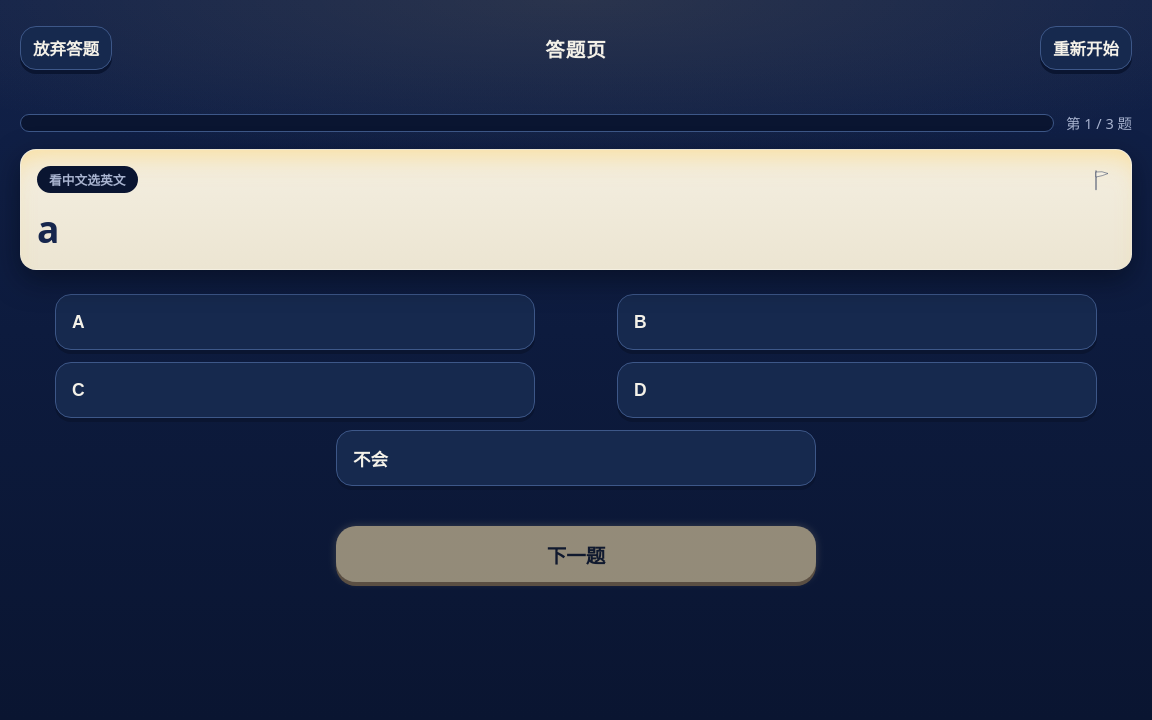
it: AC5-2 题干与选项渲染 › 三种题型 chip 文案映射
Expected: the text with class "star-chip" reads "看中文选英文", [49, 171, 126, 189]
Click the button with class "star-option" showing "A" at (78, 322), box [55, 294, 535, 350]
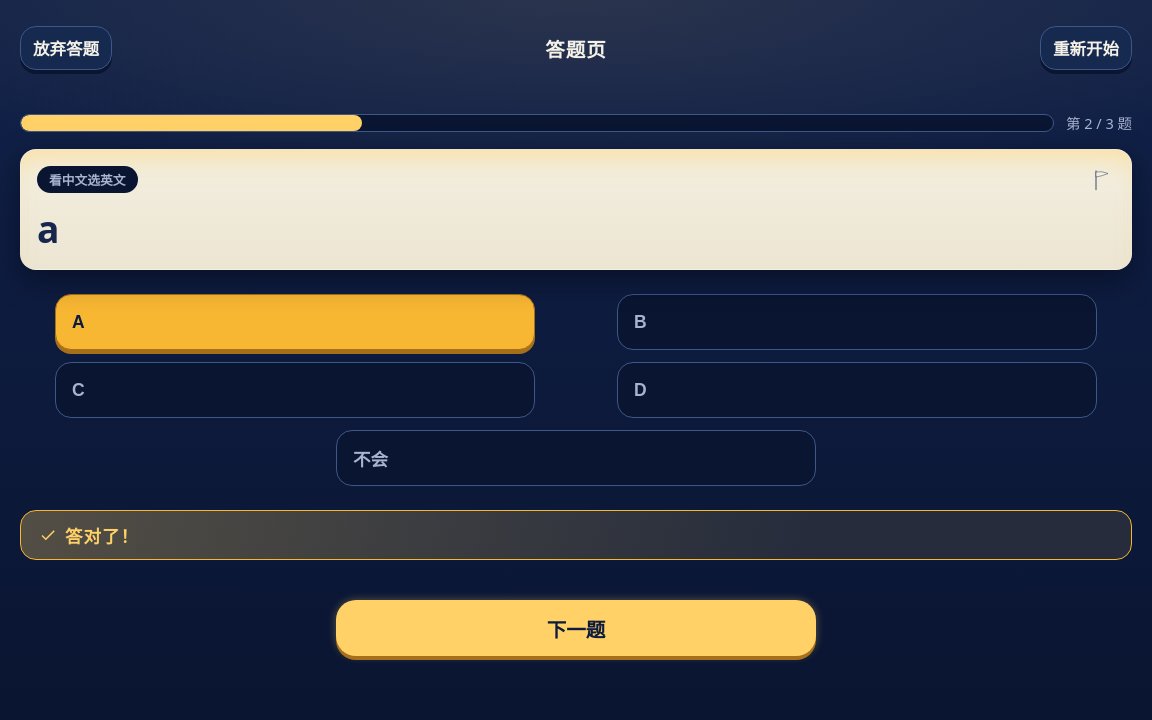
Click the button with class "next-btn" at (576, 628), box [336, 600, 816, 656]
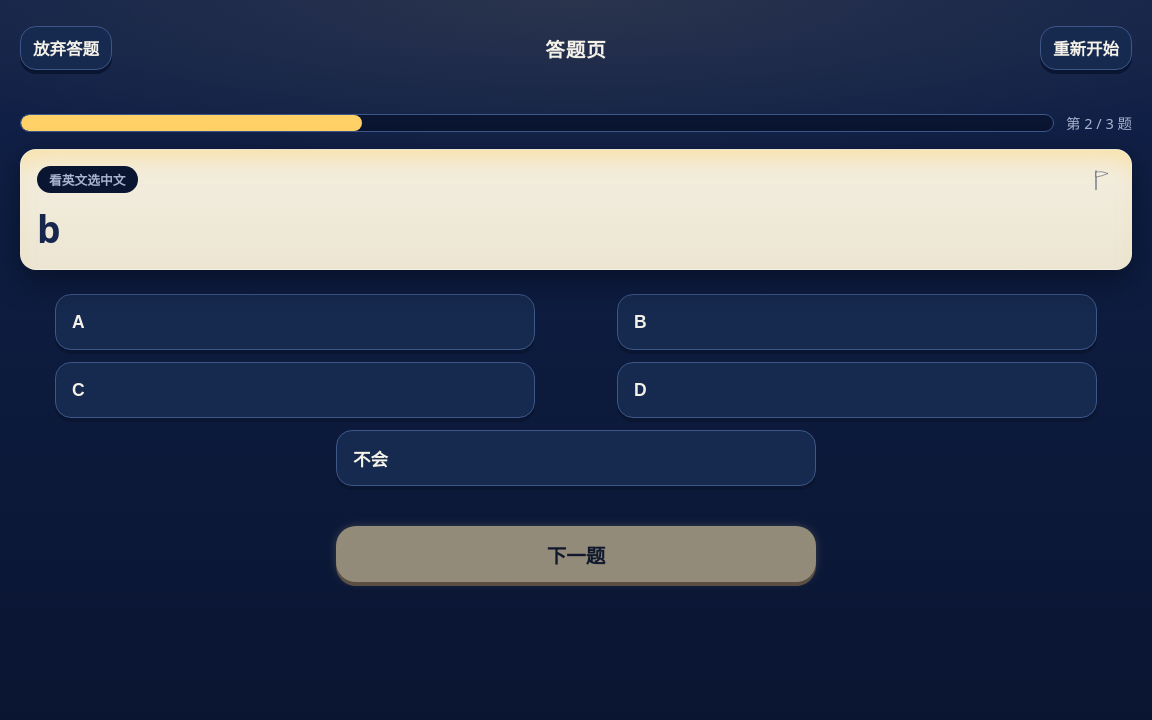
Now the text with class "star-chip" reads "看英文选中文", box [49, 171, 126, 189]
Click the button with class "star-option" showing "A" at (78, 322), box [55, 294, 535, 350]
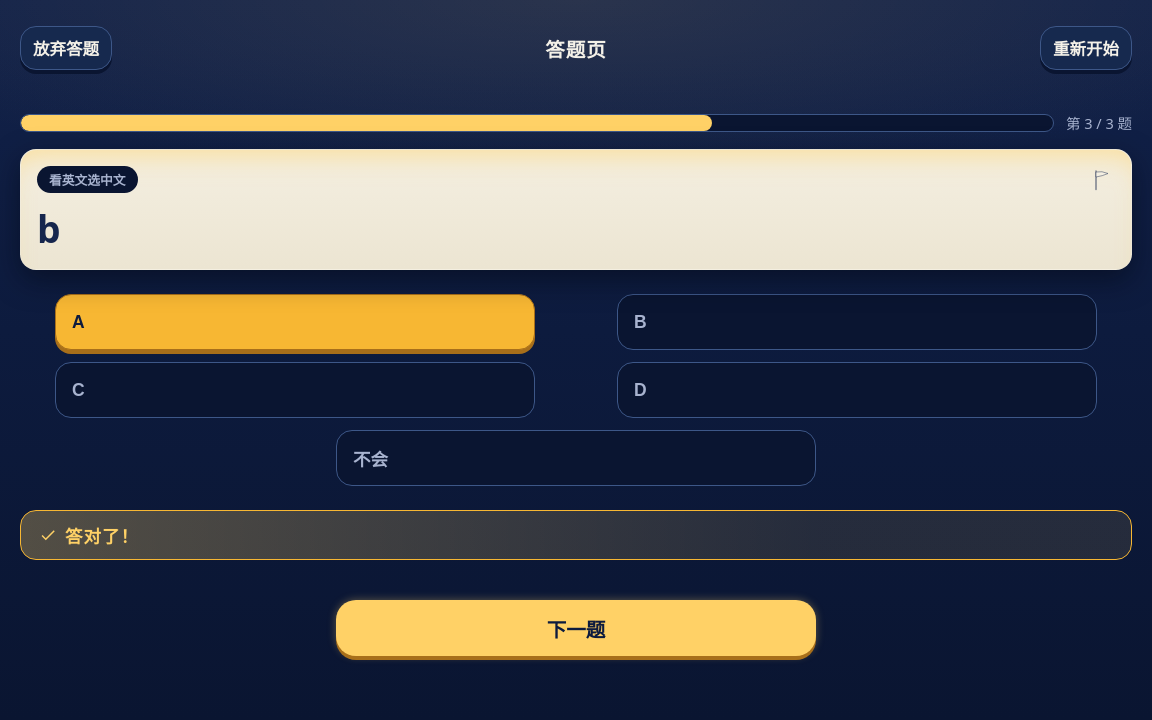
Click the button with class "next-btn" at (576, 628), box [336, 600, 816, 656]
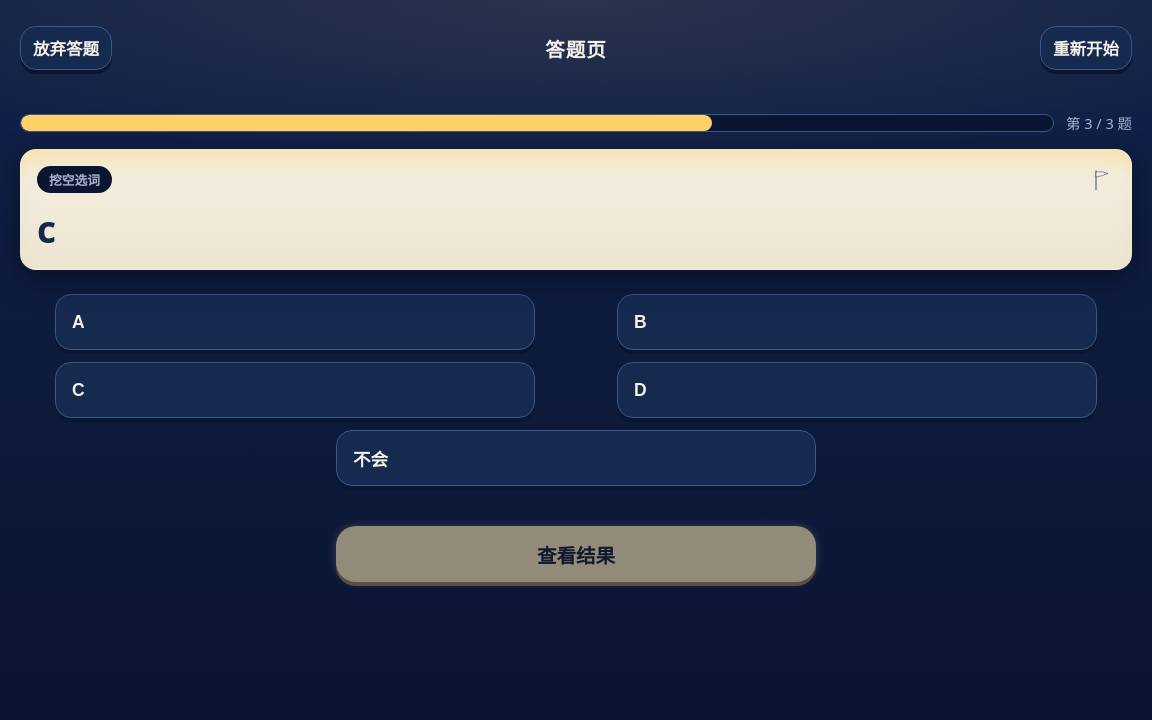
Now the text with class "star-chip" reads "挖空选词", box [49, 171, 100, 189]
